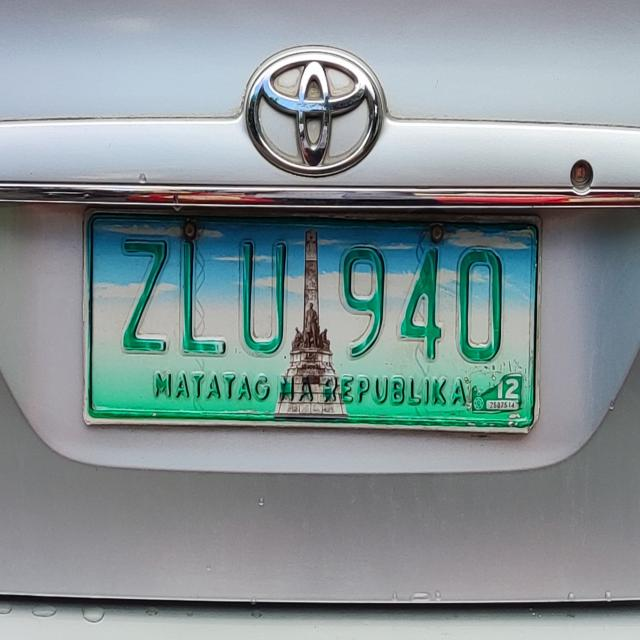plate: (74, 192, 550, 444)
